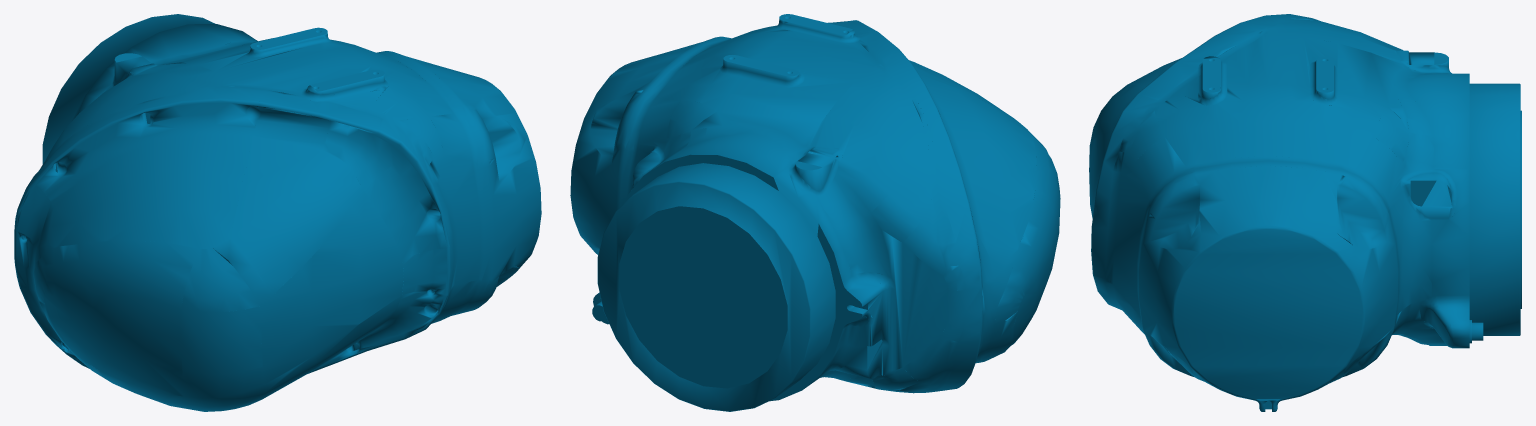
The picture shows the model from 3 angles, left to right: view 1: azimuth 30°, elevation 25°; view 2: azimuth 150°, elevation 25°; view 3: azimuth 270°, elevation 25°; orthographic projection. The views are drawn at different scales.
Parts seen in each view (by area): view 1: mesh_shell_11__LOD_0_.003; view 2: mesh_shell_11__LOD_0_.003; view 3: mesh_shell_11__LOD_0_.003.
Boxes of the visible parts, box(x1,y1,x2,y2) form: mesh_shell_11__LOD_0_.003: box(14, 14, 541, 411); mesh_shell_11__LOD_0_.003: box(570, 14, 1060, 411); mesh_shell_11__LOD_0_.003: box(1089, 14, 1521, 411).
Bounding box in the file's own units: 0.4377 × 0.381 × 0.287.
